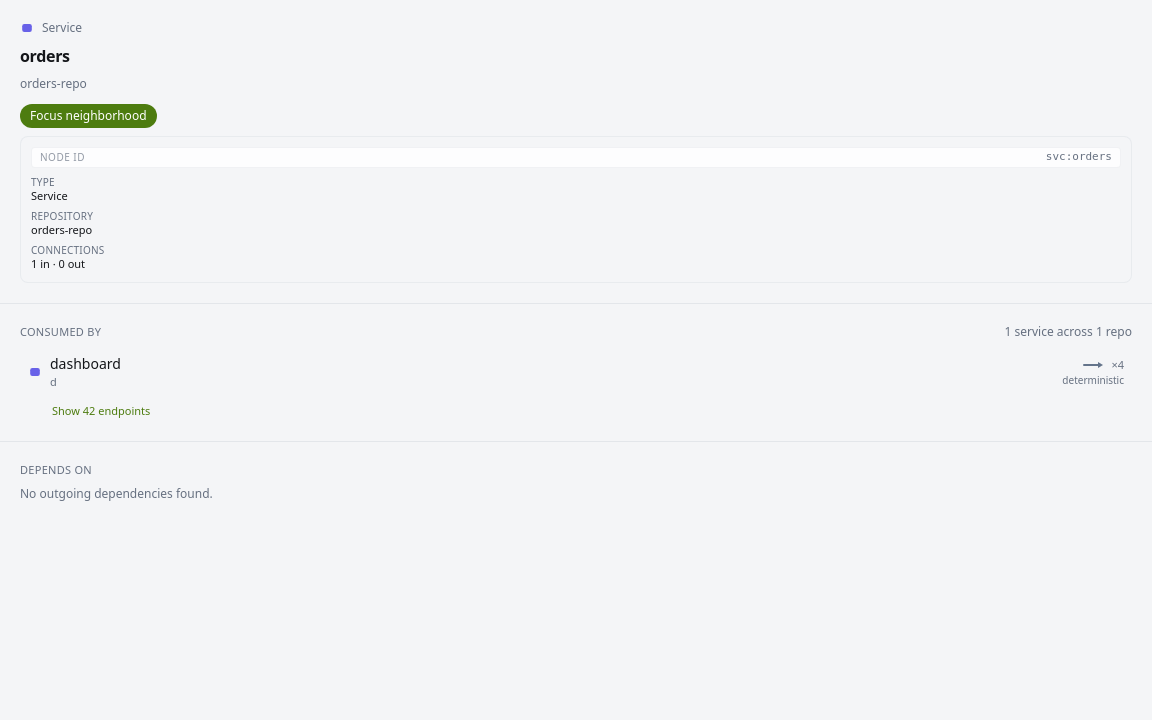
Test: MapInspector — which endpoints sit behind a relation › declares endpoints the cap left out instead of hiding them
This screenshot has width=1152, height=720.
Click the button "Show 42 endpoints". click: coordinates (101, 411)
box: [52,403,150,419]
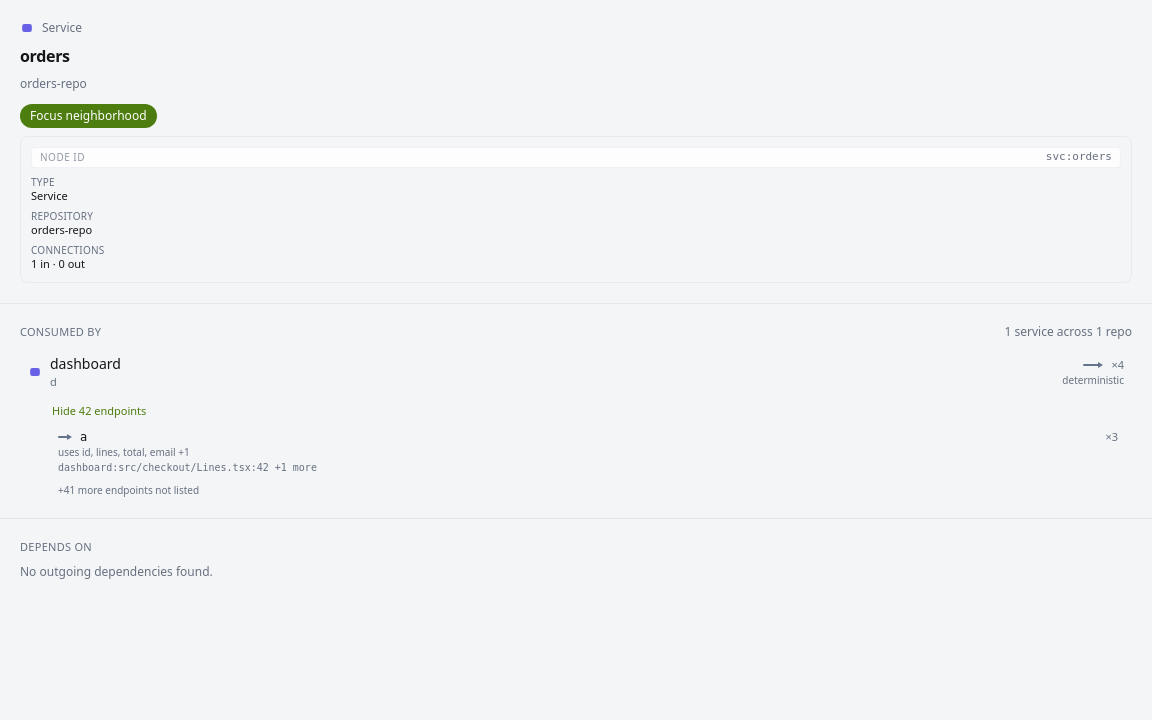
Now the list item "+41 more endpoints not listed" is shown, box [58,483,199,497]
